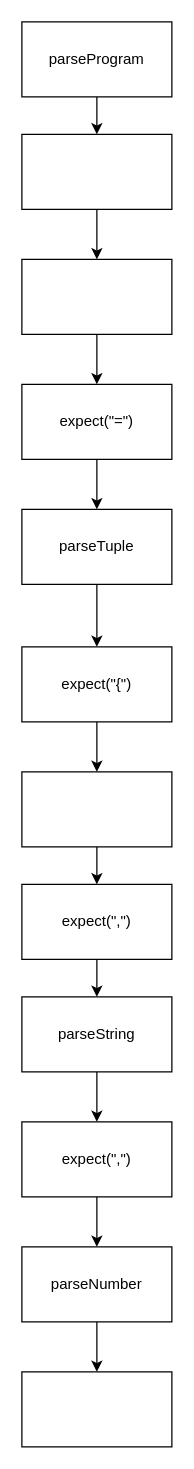
Some shapes in this 194 by 1469 pixel diagram are drawn without their labels. The box of each missing label's shape, as (x1, y1, x2, y2) in pixels:
expect("}"): (21, 1371, 172, 1447)
parseAtom: (21, 771, 172, 847)
parseIdentifier: (21, 258, 172, 334)
parseStatement: (21, 133, 172, 209)
